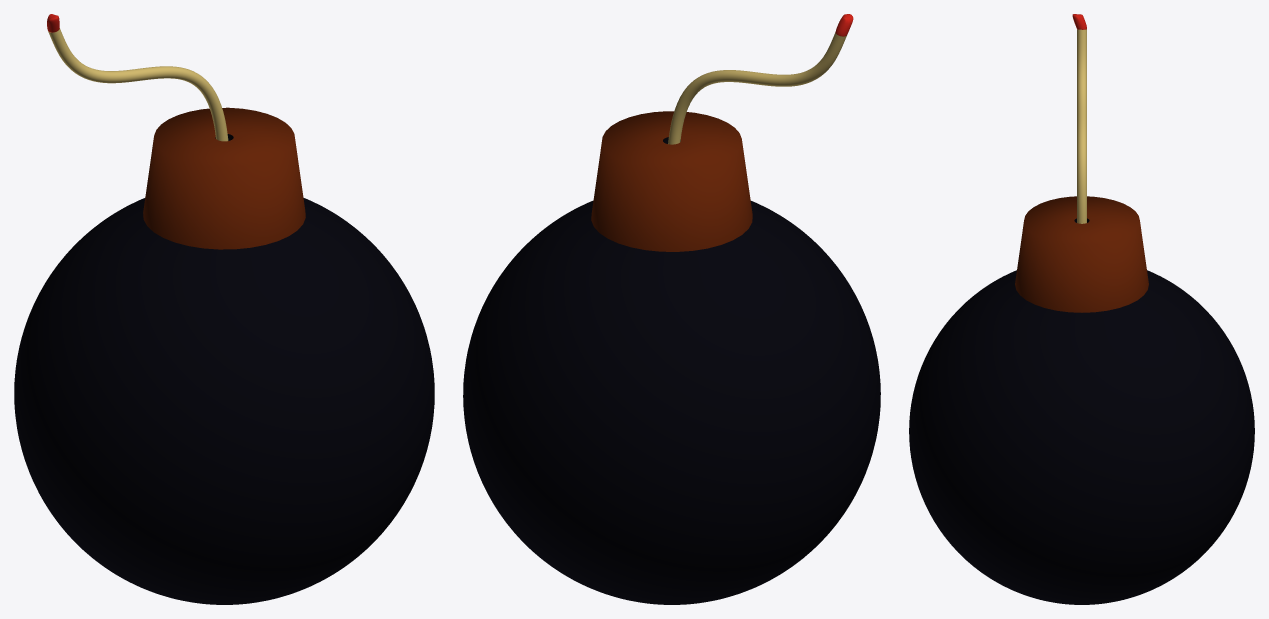
The model's file is bomb.fbx.
The picture shows the model from 3 angles, left to right: view 1: azimuth 30°, elevation 25°; view 2: azimuth 150°, elevation 25°; view 3: azimuth 270°, elevation 25°; orthographic projection. The views are drawn at different scales.
Parts seen in each view (by area): view 1: Sphere, Sphere.001, BézierCurve; view 2: Sphere, Sphere.001, BézierCurve; view 3: Sphere, Sphere.001, BézierCurve.
Part boxes in pixels (x1=…): Sphere: x1=14, y1=134, x2=434, y2=604; Sphere.001: x1=143, y1=107, x2=305, y2=249; BézierCurve: x1=48, y1=28, x2=228, y2=141; Sphere: x1=463, y1=137, x2=880, y2=604; Sphere.001: x1=591, y1=111, x2=752, y2=251; BézierCurve: x1=668, y1=32, x2=846, y2=144; Sphere: x1=909, y1=218, x2=1254, y2=604; Sphere.001: x1=1015, y1=196, x2=1148, y2=312; BézierCurve: x1=1077, y1=29, x2=1086, y2=223.
Size of the model in its own units: 197 by 318 by 197.
